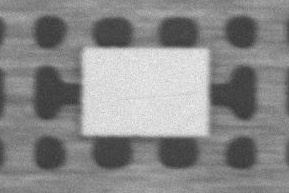DIE_CRACK: (181, 62, 289, 66)
